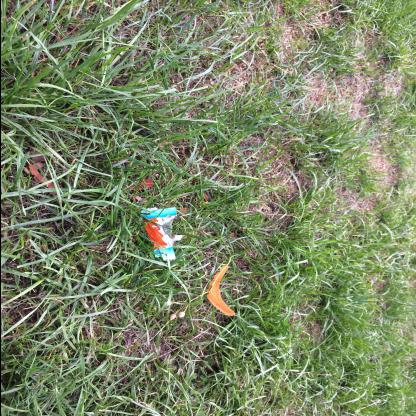plastik: (140, 207, 182, 261)
